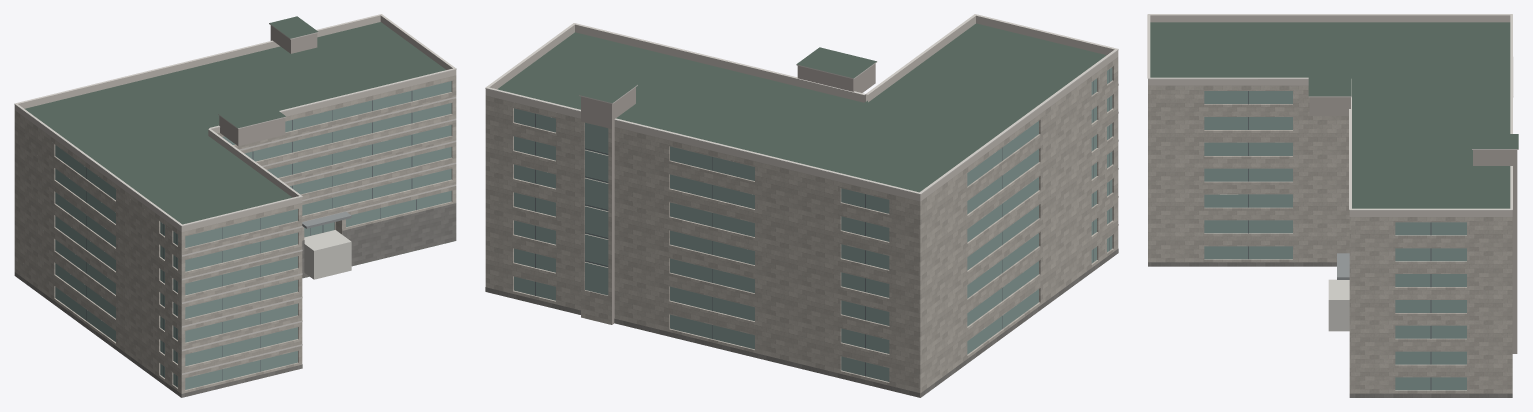
3 views of the same model, side by side, from view 1: azimuth 30°, elevation 25°; view 2: azimuth 150°, elevation 25°; view 3: azimuth 270°, elevation 25° (orthographic). The views are drawn at different scales.
Visible parts, largest first — view 1: b221__wall, b221__roof, b221__glass, b221__parapet, b221__trim, b221__base, b221__entranceStair, b221__wall2, b221__frame, b221__canopy; view 2: b221__wall, b221__roof, b221__glass, b221__parapet, b221__trim, b221__base, b221__wall2, b221__frame; view 3: b221__wall, b221__roof, b221__glass, b221__parapet, b221__trim, b221__wall2, b221__base, b221__entranceStair, b221__canopy.
Boxes of the visible parts, x1,y1,x2,y2 form: b221__wall: (14, 75, 456, 397); b221__roof: (25, 16, 452, 277); b221__glass: (55, 81, 451, 389); b221__parapet: (14, 15, 456, 232); b221__trim: (14, 14, 456, 374); b221__base: (14, 203, 456, 397); b221__entranceStair: (304, 230, 351, 279); b221__wall2: (219, 25, 317, 146); b221__frame: (86, 91, 416, 386); b221__canopy: (302, 211, 351, 228); b221__wall: (485, 57, 1118, 397); b221__roof: (497, 23, 1106, 192); b221__glass: (514, 67, 1112, 381); b221__parapet: (485, 15, 1118, 201); b221__trim: (485, 14, 1118, 225); b221__base: (485, 248, 1118, 397); b221__wall2: (581, 63, 875, 324); b221__frame: (535, 69, 1109, 376); b221__wall: (1148, 85, 1512, 393); b221__roof: (1150, 22, 1518, 208); b221__glass: (1204, 91, 1466, 390); b221__parapet: (1148, 15, 1512, 216); b221__trim: (1147, 14, 1518, 210); b221__wall2: (1309, 97, 1517, 353); b221__base: (1148, 262, 1512, 397); b221__entranceStair: (1328, 279, 1349, 331); b221__canopy: (1337, 253, 1349, 279).
Size of the model in its own units: 58.55 by 28.61 by 46.86.
Materials: 11 (2 with a texture image).
